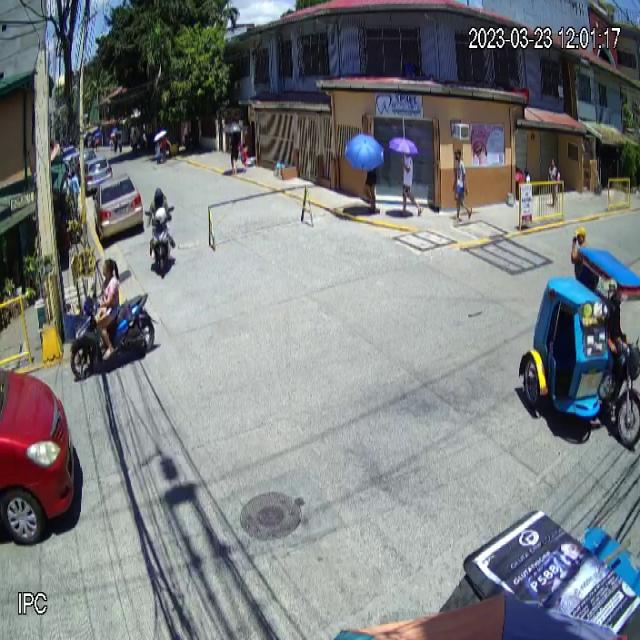Motorcycle: (68, 284, 154, 381)
Tricycle: (516, 245, 640, 452)
